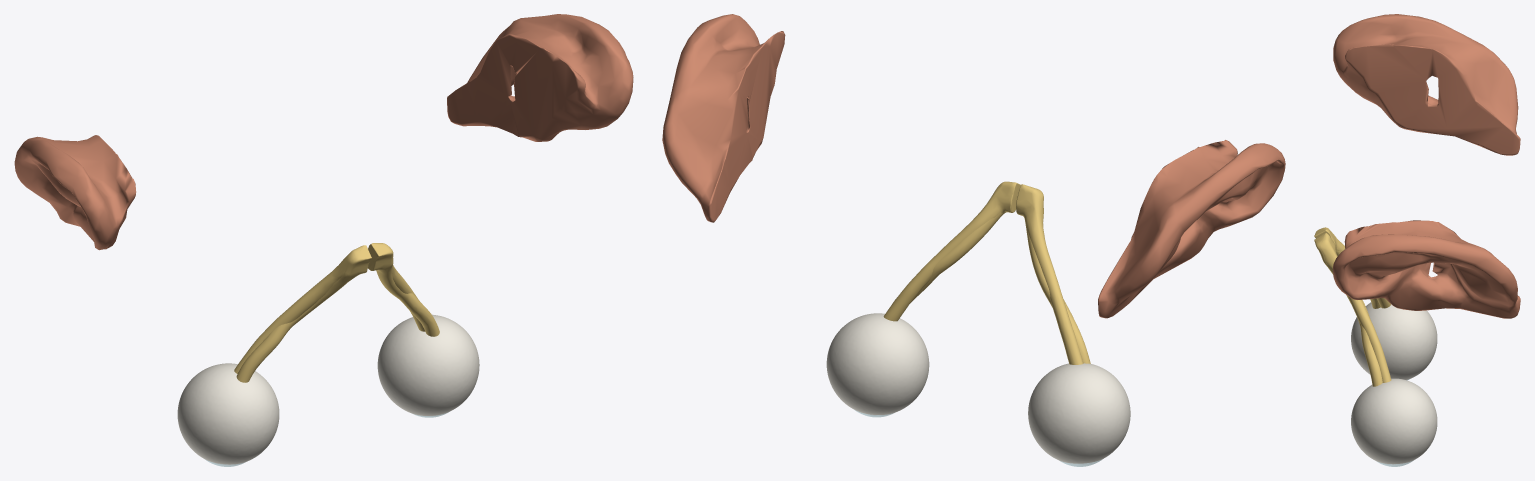
Rendered from ocular_external_ear_bodyparts3d_v4.glb.
3 renders of one model, left to right at view 1: azimuth 30°, elevation 25°; view 2: azimuth 150°, elevation 25°; view 3: azimuth 270°, elevation 25°, orthographic. The views are drawn at different scales.
Parts seen in each view (by area): view 1: BodyParts3D_external_ears_external_ears_FJ2811, BodyParts3D_ocular_structures_sclera_right_FJ1368, BodyParts3D_ocular_structures_sclera_left_FJ1317, BodyParts3D_ocular_structures_optic_nerve_right_2_FJ1819, BodyParts3D_ocular_structures_optic_nerve_left_2_FJ1772, BodyParts3D_ocular_structures_optic_nerve_right_1_FJ1364; view 2: BodyParts3D_external_ears_external_ears_FJ2811, BodyParts3D_ocular_structures_sclera_right_FJ1368, BodyParts3D_ocular_structures_sclera_left_FJ1317, BodyParts3D_ocular_structures_optic_nerve_right_1_FJ1364, BodyParts3D_ocular_structures_optic_nerve_left_1_FJ1313, BodyParts3D_ocular_structures_optic_nerve_left_2_FJ1772, BodyParts3D_ocular_structures_optic_nerve_right_2_FJ1819; view 3: BodyParts3D_external_ears_external_ears_FJ2811, BodyParts3D_ocular_structures_sclera_left_FJ1317, BodyParts3D_ocular_structures_sclera_right_FJ1368, BodyParts3D_ocular_structures_optic_nerve_left_1_FJ1313, BodyParts3D_ocular_structures_optic_nerve_left_2_FJ1772, BodyParts3D_ocular_structures_optic_nerve_right_1_FJ1364.
Part boxes in pixels (x1,y1,x2,y2): BodyParts3D_external_ears_external_ears_FJ2811: (14, 14, 633, 250); BodyParts3D_ocular_structures_sclera_right_FJ1368: (177, 363, 279, 464); BodyParts3D_ocular_structures_sclera_left_FJ1317: (377, 314, 479, 415); BodyParts3D_ocular_structures_optic_nerve_right_2_FJ1819: (236, 246, 371, 382); BodyParts3D_ocular_structures_optic_nerve_left_2_FJ1772: (368, 243, 439, 336); BodyParts3D_ocular_structures_optic_nerve_right_1_FJ1364: (234, 245, 367, 373); BodyParts3D_external_ears_external_ears_FJ2811: (662, 14, 1285, 318); BodyParts3D_ocular_structures_sclera_right_FJ1368: (1028, 363, 1130, 463); BodyParts3D_ocular_structures_sclera_left_FJ1317: (826, 313, 929, 414); BodyParts3D_ocular_structures_optic_nerve_right_1_FJ1364: (1016, 184, 1083, 364); BodyParts3D_ocular_structures_optic_nerve_left_1_FJ1313: (883, 181, 1019, 321); BodyParts3D_ocular_structures_optic_nerve_left_2_FJ1772: (893, 181, 1020, 303); BodyParts3D_ocular_structures_optic_nerve_right_2_FJ1819: (1016, 185, 1090, 363); BodyParts3D_external_ears_external_ears_FJ2811: (1333, 14, 1520, 318); BodyParts3D_ocular_structures_sclera_left_FJ1317: (1351, 378, 1437, 464); BodyParts3D_ocular_structures_sclera_right_FJ1368: (1351, 302, 1437, 379); BodyParts3D_ocular_structures_optic_nerve_left_1_FJ1313: (1319, 233, 1391, 382); BodyParts3D_ocular_structures_optic_nerve_left_2_FJ1772: (1314, 233, 1382, 386); BodyParts3D_ocular_structures_optic_nerve_right_1_FJ1364: (1319, 227, 1390, 308).
Bounding box in the file's own units: 168 × 99.48 × 62.58.
